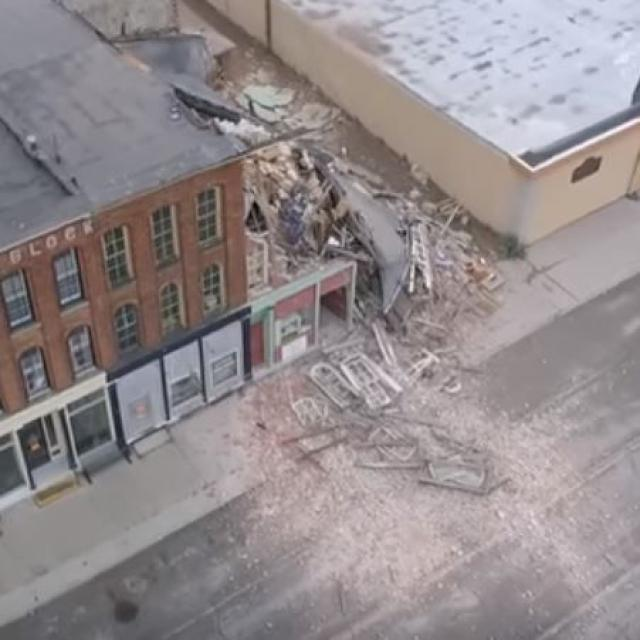collapsed_building: (219, 98, 444, 358)
